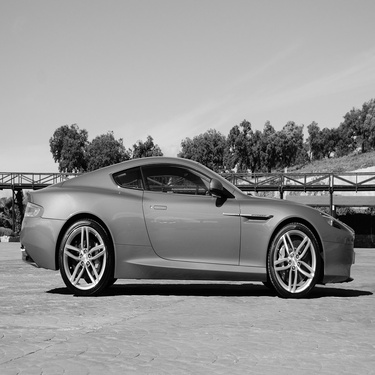car: (1, 138, 363, 312)
